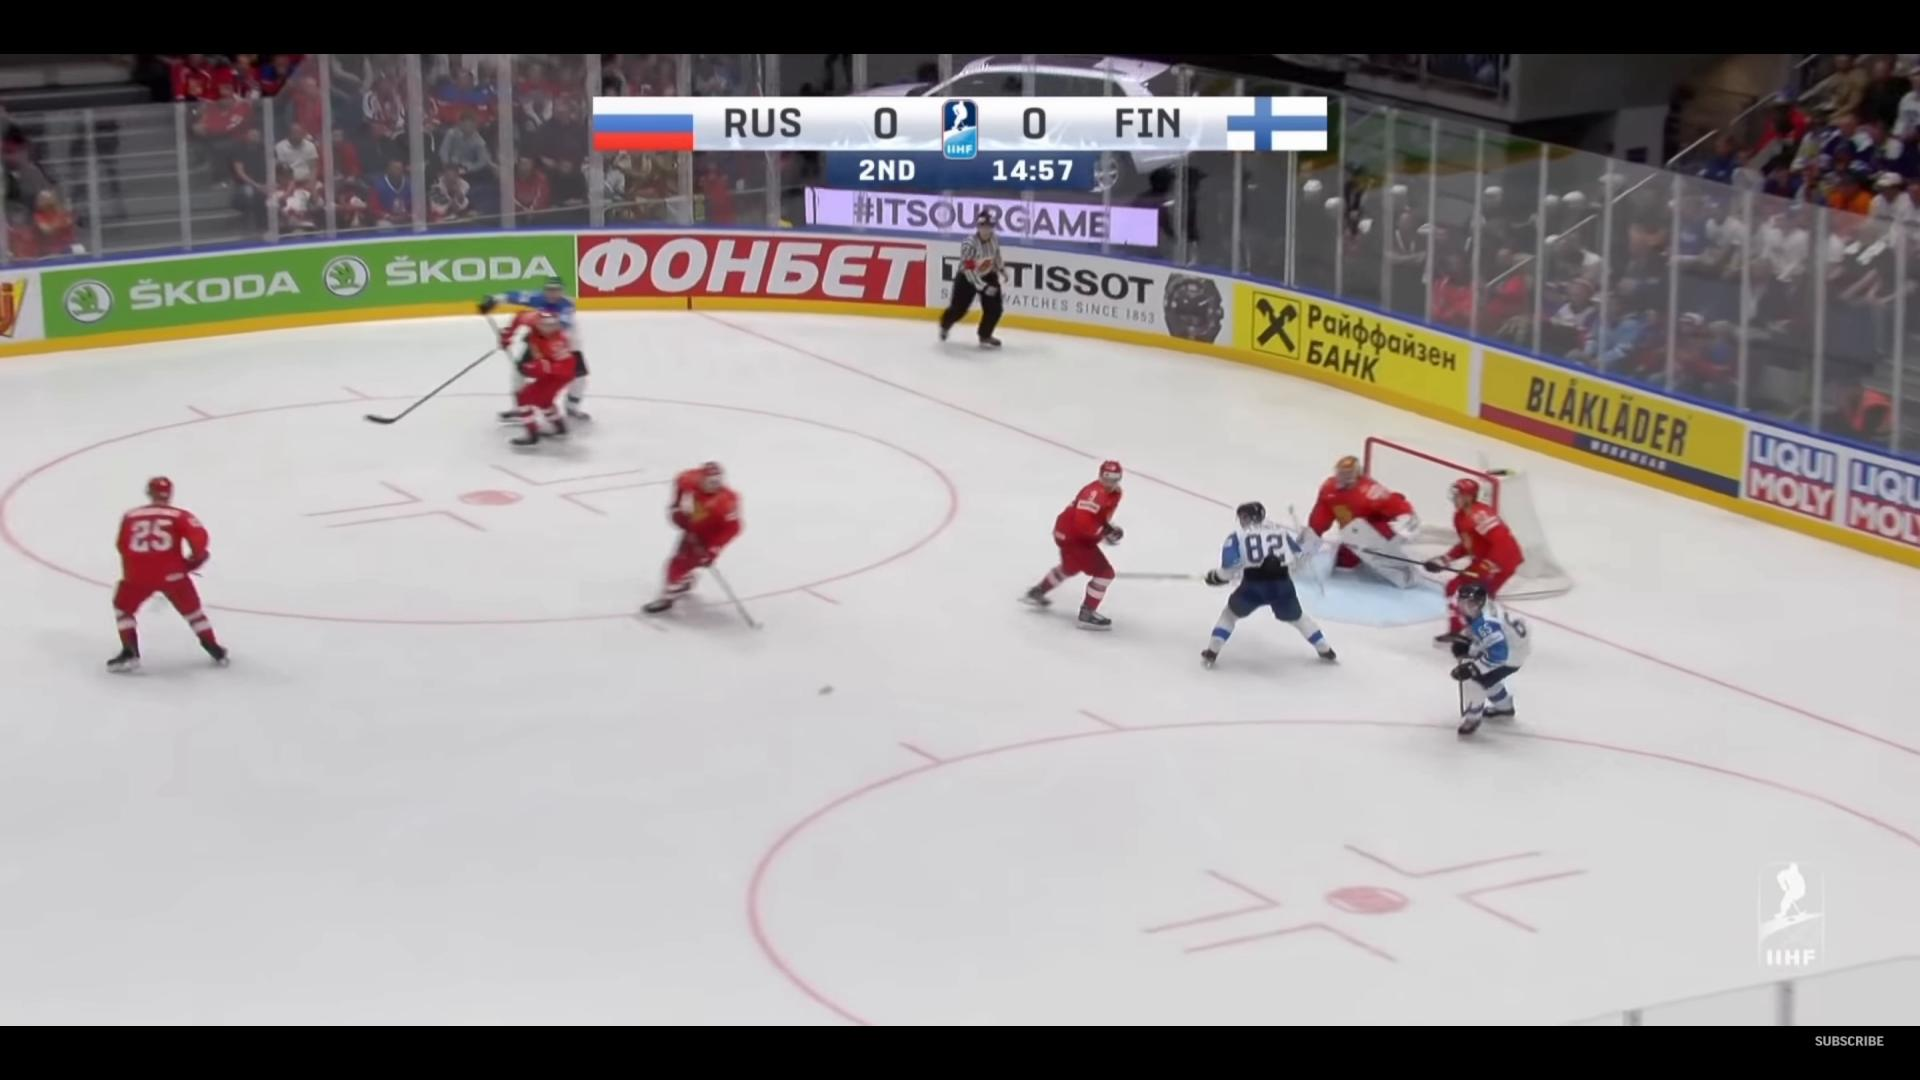puck: (818, 683, 833, 695)
